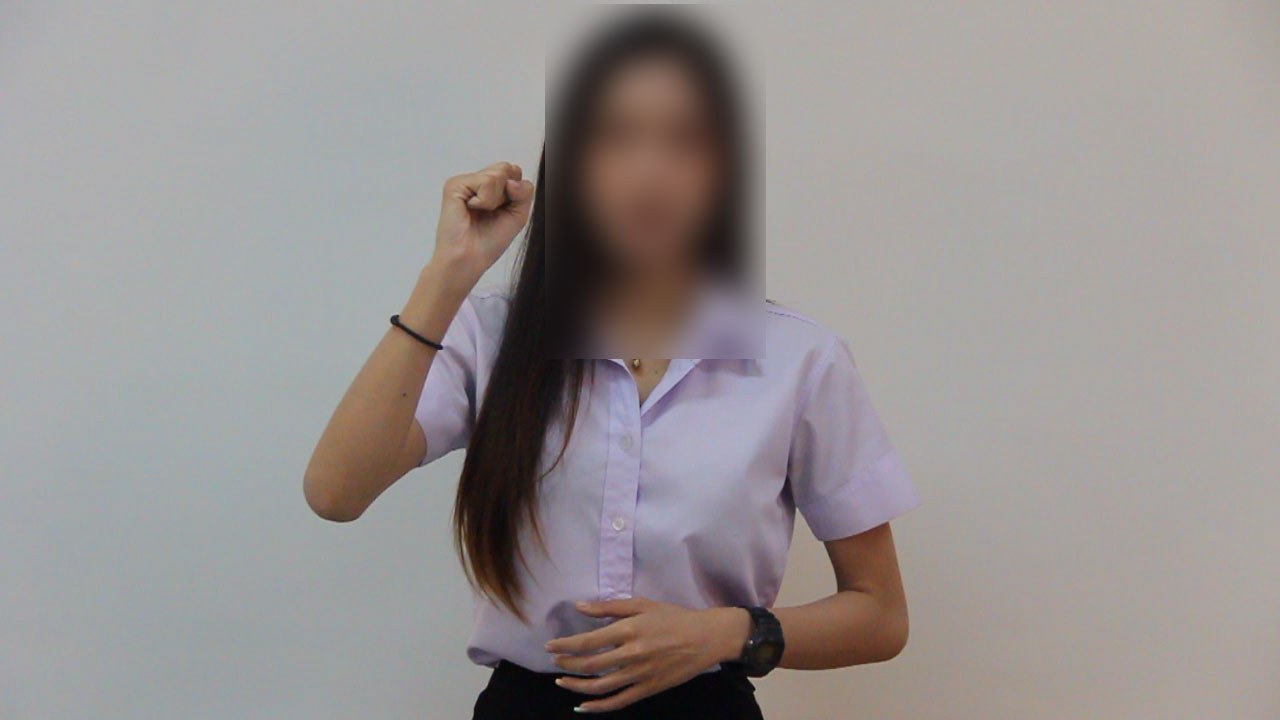sor: (406, 149, 539, 299)
